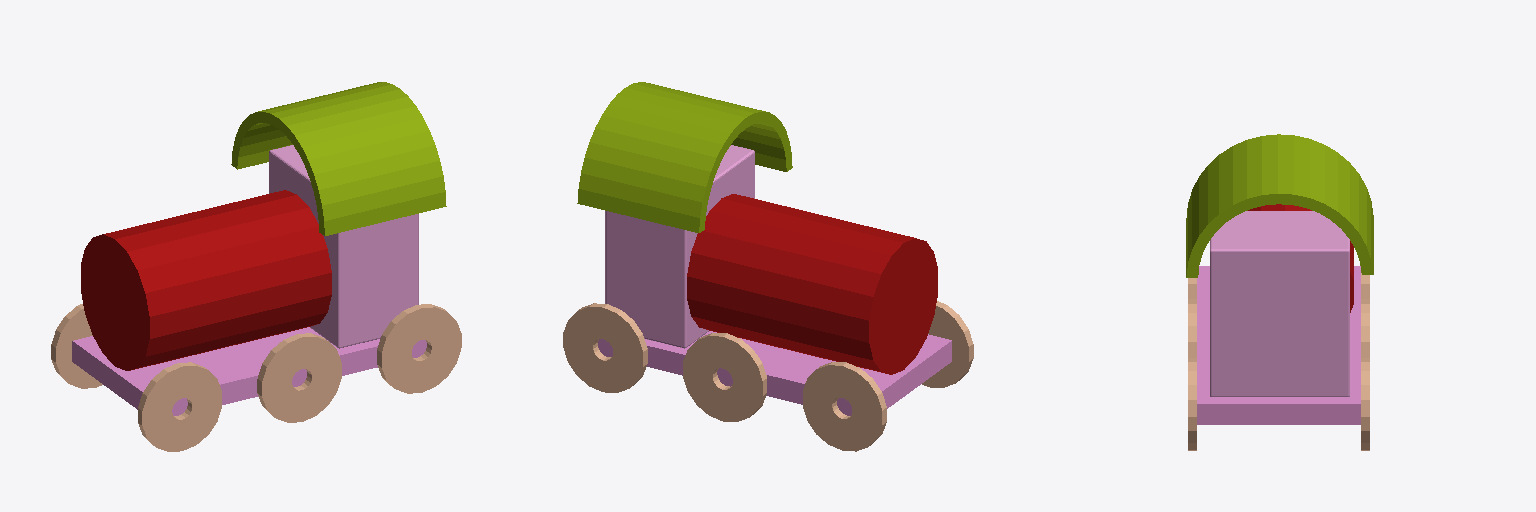
File: trenecito.obj
The picture shows the model from 3 angles: view 1: azimuth 30°, elevation 25°; view 2: azimuth 150°, elevation 25°; view 3: azimuth 270°, elevation 25°; orthographic projection.
Parts seen in each view (by area): view 1: Cylinder001, Tube007, ChamferBox001, Box001, Tube002, Tube003, Tube001, Tube004; view 2: Cylinder001, Tube007, ChamferBox001, Box001, Tube006, Tube004, Tube005, Tube001; view 3: ChamferBox001, Tube007, Box001, Tube003, Tube006, Cylinder001, Tube002, Tube005.
Part boxes in pixels (x1,y1,x2,y2): Cylinder001: (81,190,331,370); Tube007: (231,82,446,235); ChamferBox001: (269,145,418,348); Box001: (72,327,426,415); Tube002: (257,333,341,422); Tube003: (377,304,461,393); Tube001: (138,362,221,451); Tube004: (51,304,102,388); Cylinder001: (687,194,937,374); Tube007: (577,82,792,232); ChamferBox001: (605,145,754,348); Box001: (598,331,951,415); Tube006: (563,303,647,392); Tube004: (803,362,886,451); Tube005: (683,333,766,421); Tube001: (922,301,973,387); ChamferBox001: (1210,211,1349,396); Tube007: (1186,134,1373,277); Box001: (1197,266,1360,424); Tube003: (1188,358,1196,450); Tube006: (1361,358,1369,450); Cylinder001: (1248,204,1353,312); Tube002: (1188,299,1196,357); Tube005: (1361,299,1369,357).
Size of the model in its own units: 62 by 49.2 by 31.48.